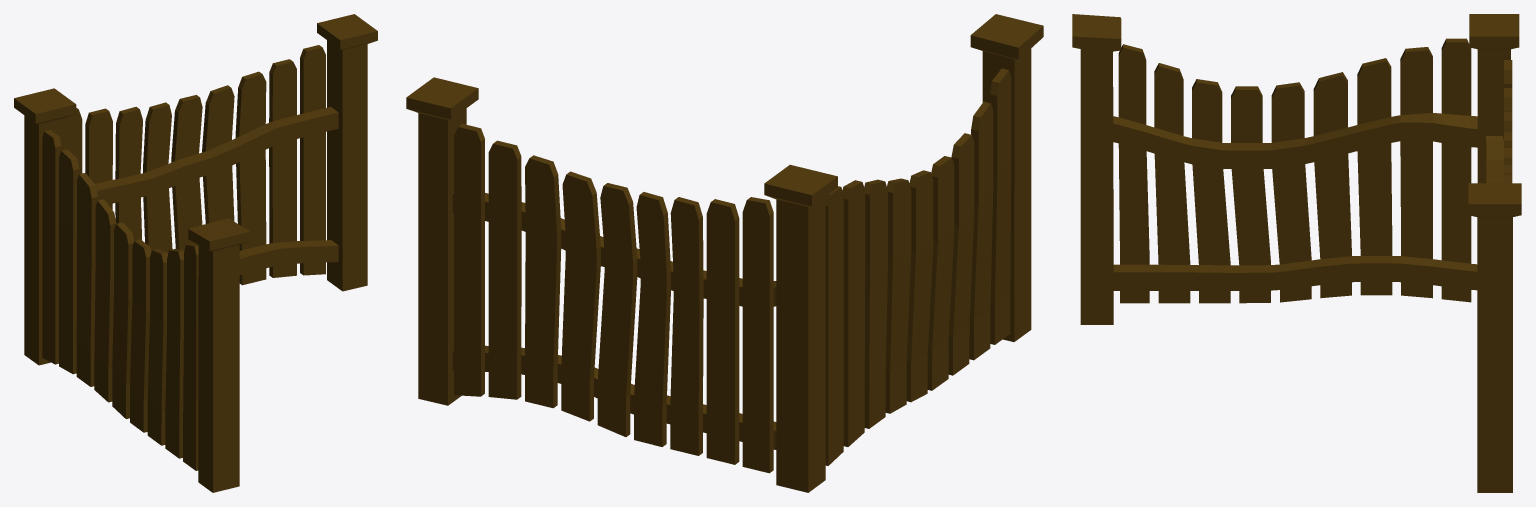
File: FenceEdge.fbx
3 views of the same model, side by side, from view 1: azimuth 30°, elevation 25°; view 2: azimuth 150°, elevation 25°; view 3: azimuth 270°, elevation 25° (orthographic). The views are drawn at different scales.
Parts seen in each view (by area): view 1: Cube.014; view 2: Cube.014; view 3: Cube.014.
Boxes of the visible parts, x1,y1,x2,y2 form: Cube.014: (14,14,377,492); Cube.014: (406,14,1043,492); Cube.014: (1072,14,1521,492).
Size of the model in its own units: 137 by 97.98 by 137.
